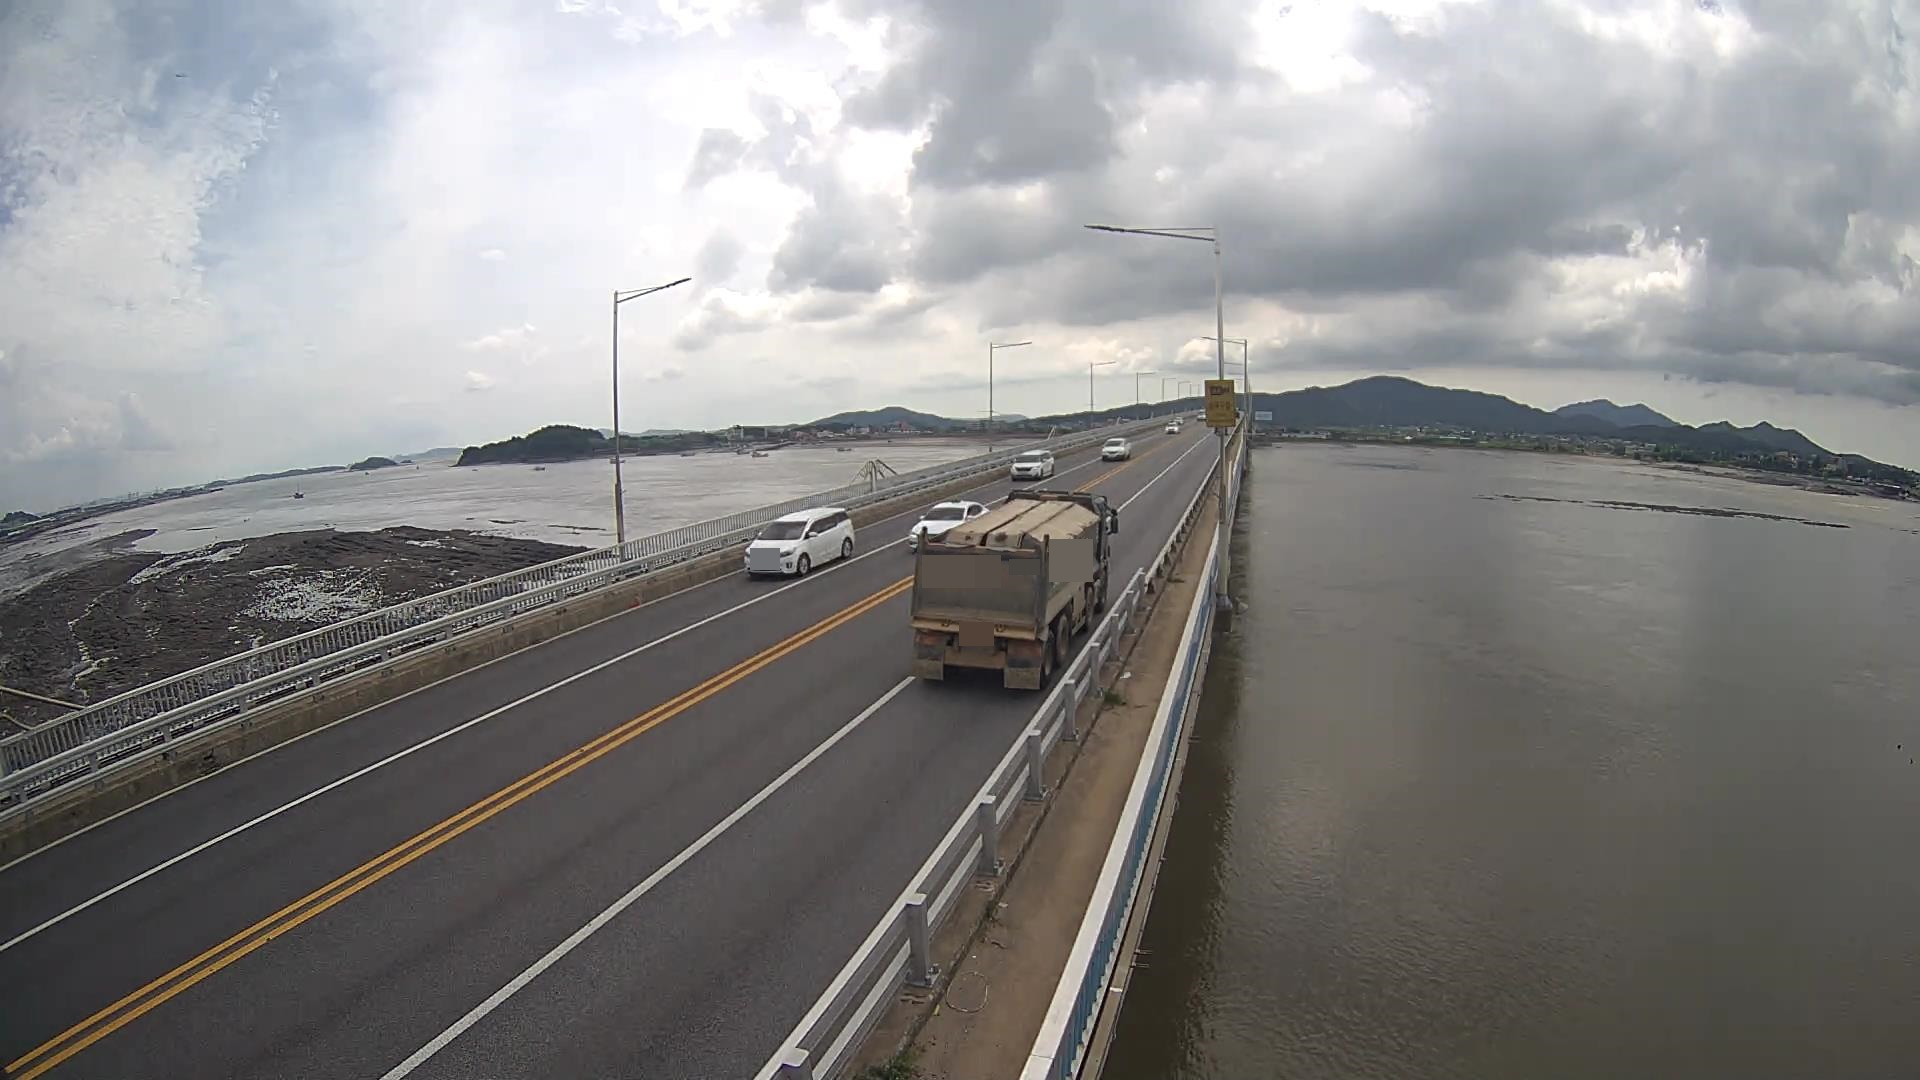정상차량: (907, 488, 1118, 690)
